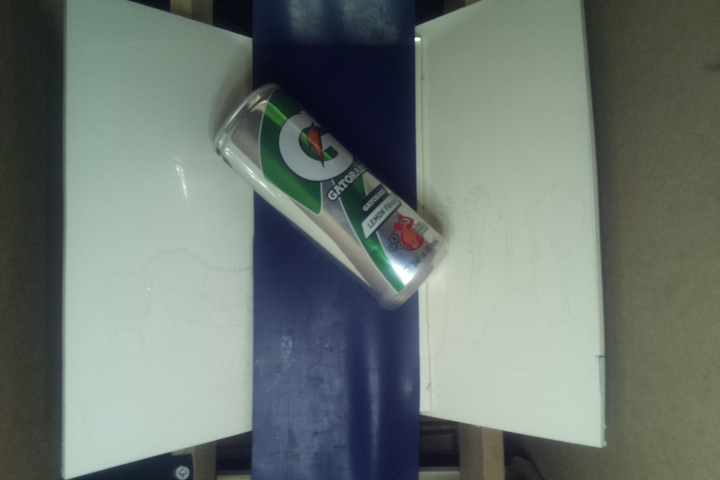can: (215, 78, 451, 310)
